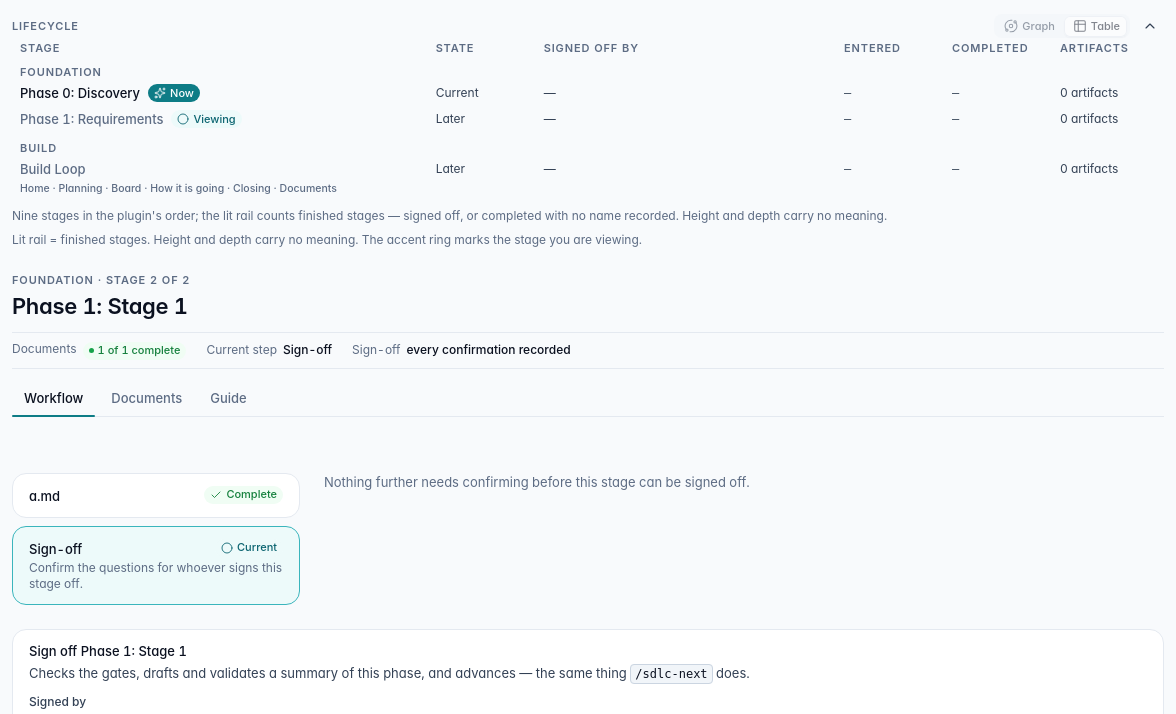
Test case: Spine band collapse / expand (I8) › under the stub each click is one commit and leaves no inline height or overflow
This screenshot has width=1176, height=714.
expect the heading "Phase 1: Stage 1" is shown: met, box [12,292,190,320]
expect the element with id "spine-band-body" is shown: met, box [12,12,1164,248]
Click the button named "Collapse the lifecycle view": (1150, 26) [1136,12,1164,40]
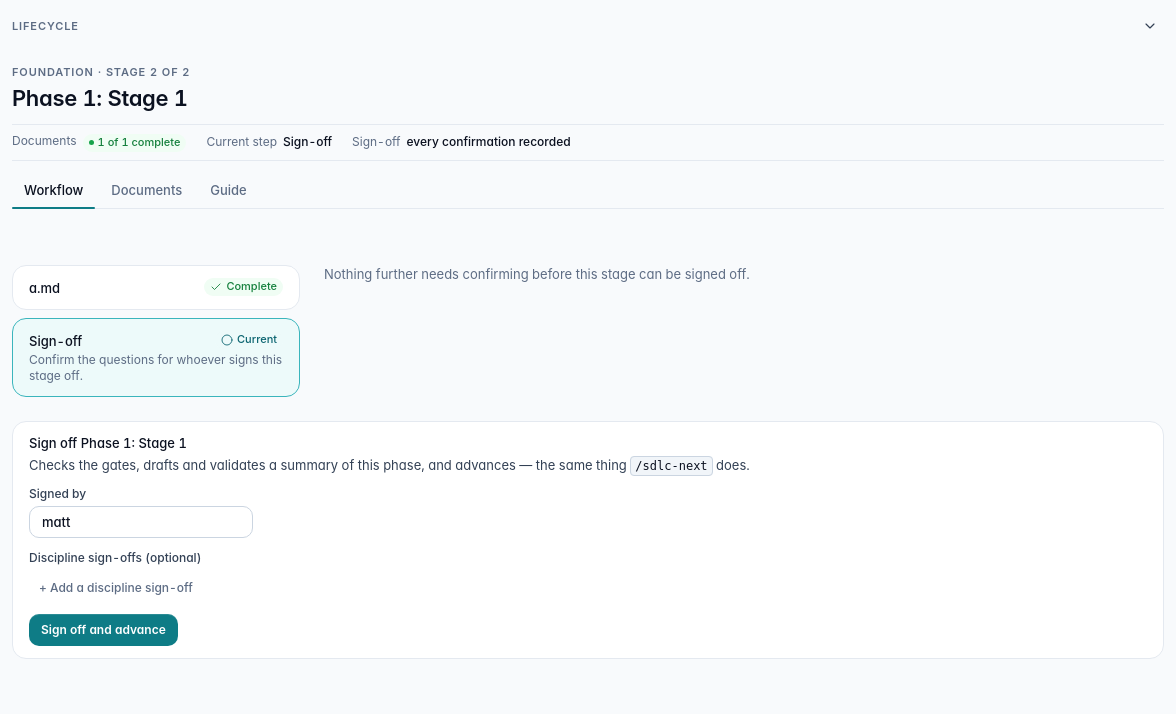
expect the element with test id "spine-band" has attribute data-collapsed: met, box [12,12,1164,40]
expect the button with id "spine-band-body" is gone: met
Click the button named "Expand the lifecycle view": (1150, 26) [1136,12,1164,40]
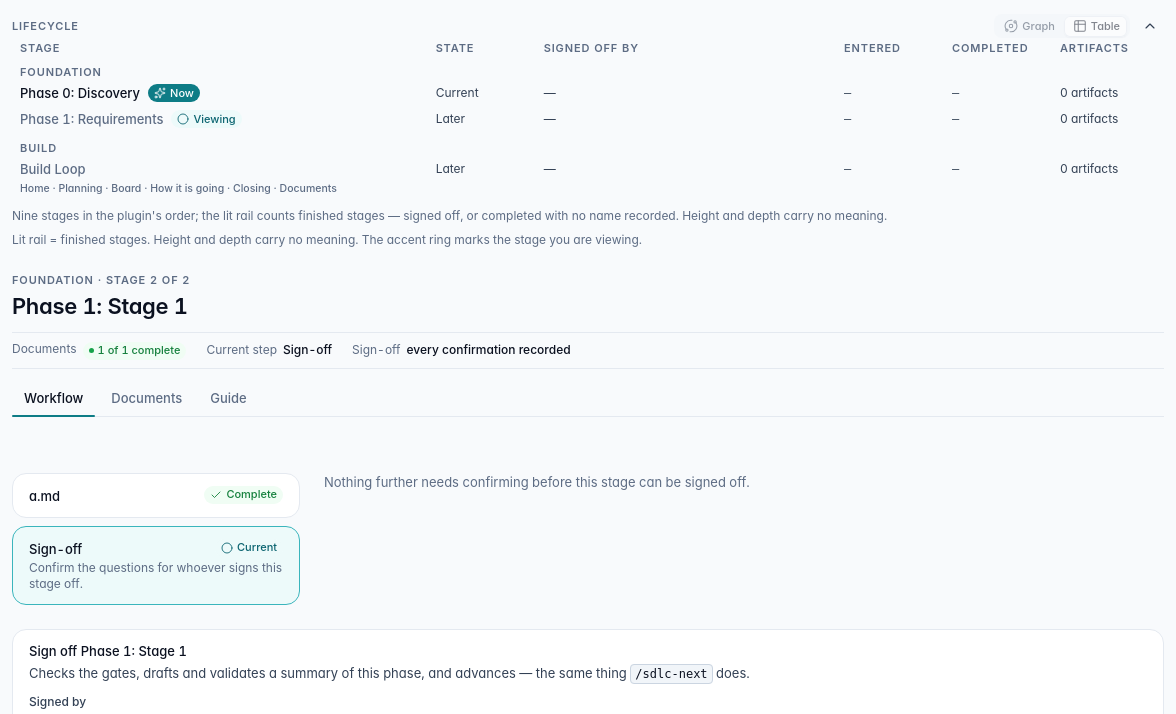
expect the element with test id "spine-band" does not have attribute data-collapsed: met, box [12,12,1164,248]
